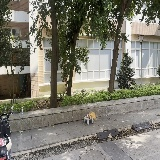fire: (88, 111, 96, 120)
